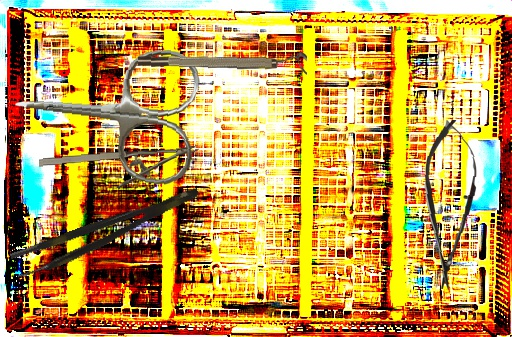Fixation Ring: (137, 46, 308, 75)
Iris Scissors: (8, 34, 203, 189)
Micro Scissor: (418, 118, 481, 291)
Needle Holder: (38, 145, 201, 193)
Tissue Forceps: (9, 185, 206, 281)
